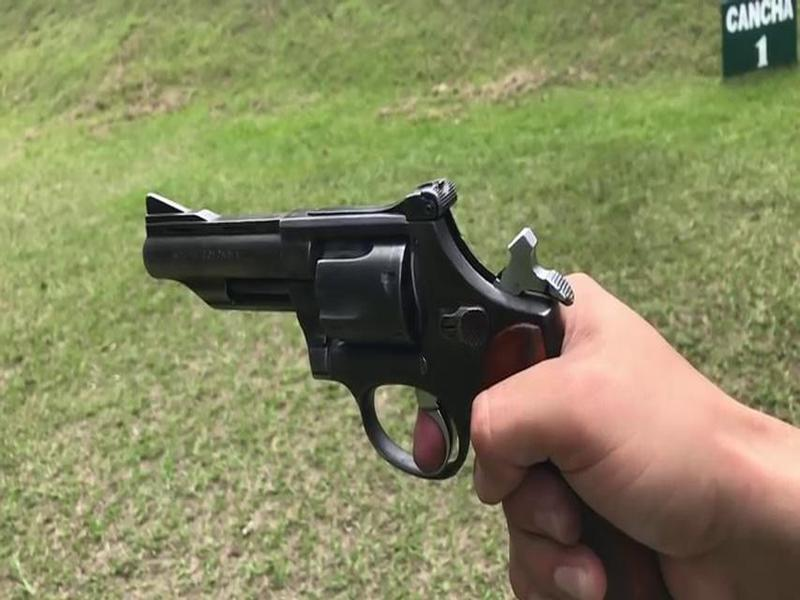Revolver: (136, 156, 614, 489)
